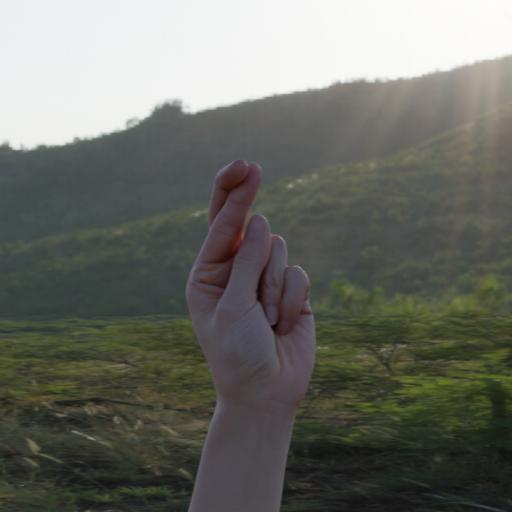R: (182, 150, 328, 456)
